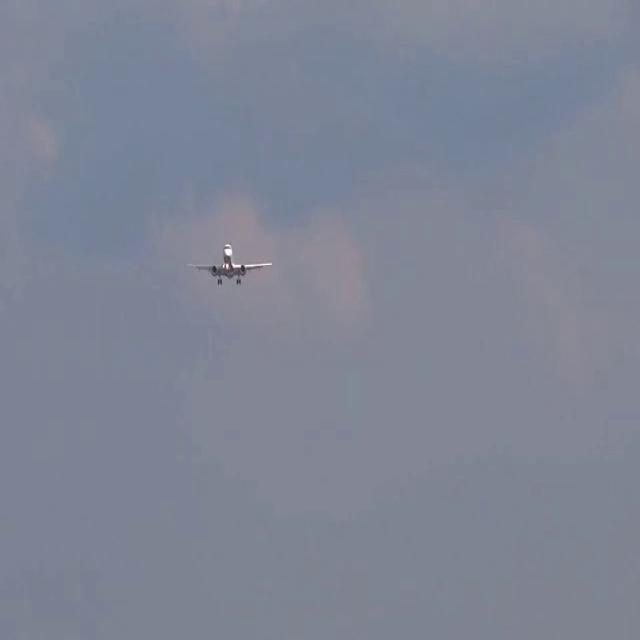Airaplan: (185, 244, 272, 284)
